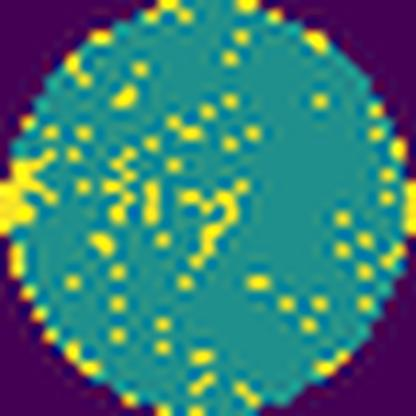Edge-Loc: (0, 148, 64, 246)
